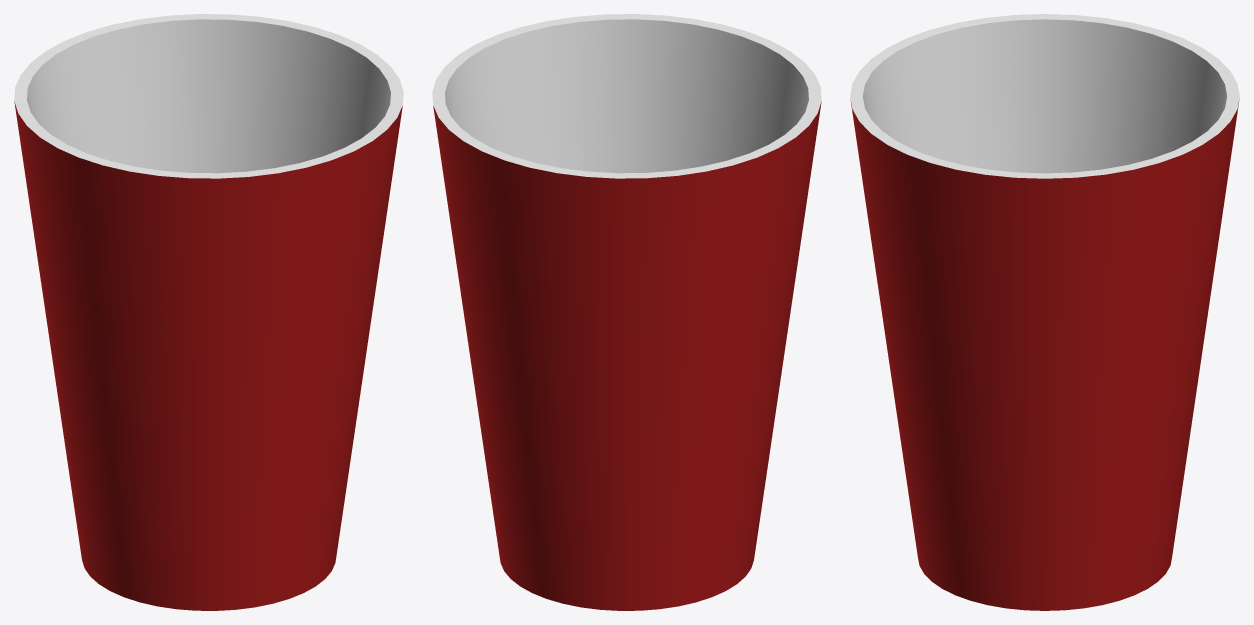
File: SoloCup.obj
The picture shows the model from 3 angles, left to right: view 1: azimuth 30°, elevation 25°; view 2: azimuth 150°, elevation 25°; view 3: azimuth 270°, elevation 25°; orthographic projection.
Parts seen in each view (by area): view 1: SoloCup; view 2: SoloCup; view 3: SoloCup.
Boxes of the visible parts, bbox=[...] form: SoloCup: bbox=[14, 14, 403, 610]; SoloCup: bbox=[432, 14, 821, 610]; SoloCup: bbox=[850, 14, 1239, 610].
Size of the model in its own units: 0.092 by 0.12 by 0.092.
